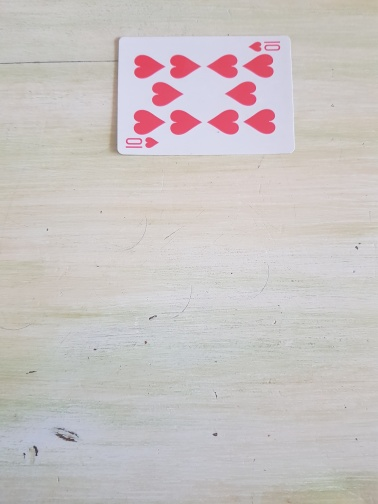ten: (115, 34, 297, 158)
